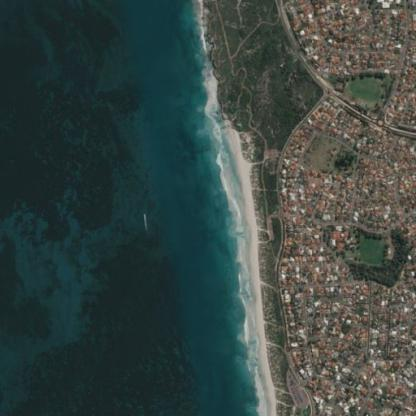ship: (124, 213, 126, 216)
